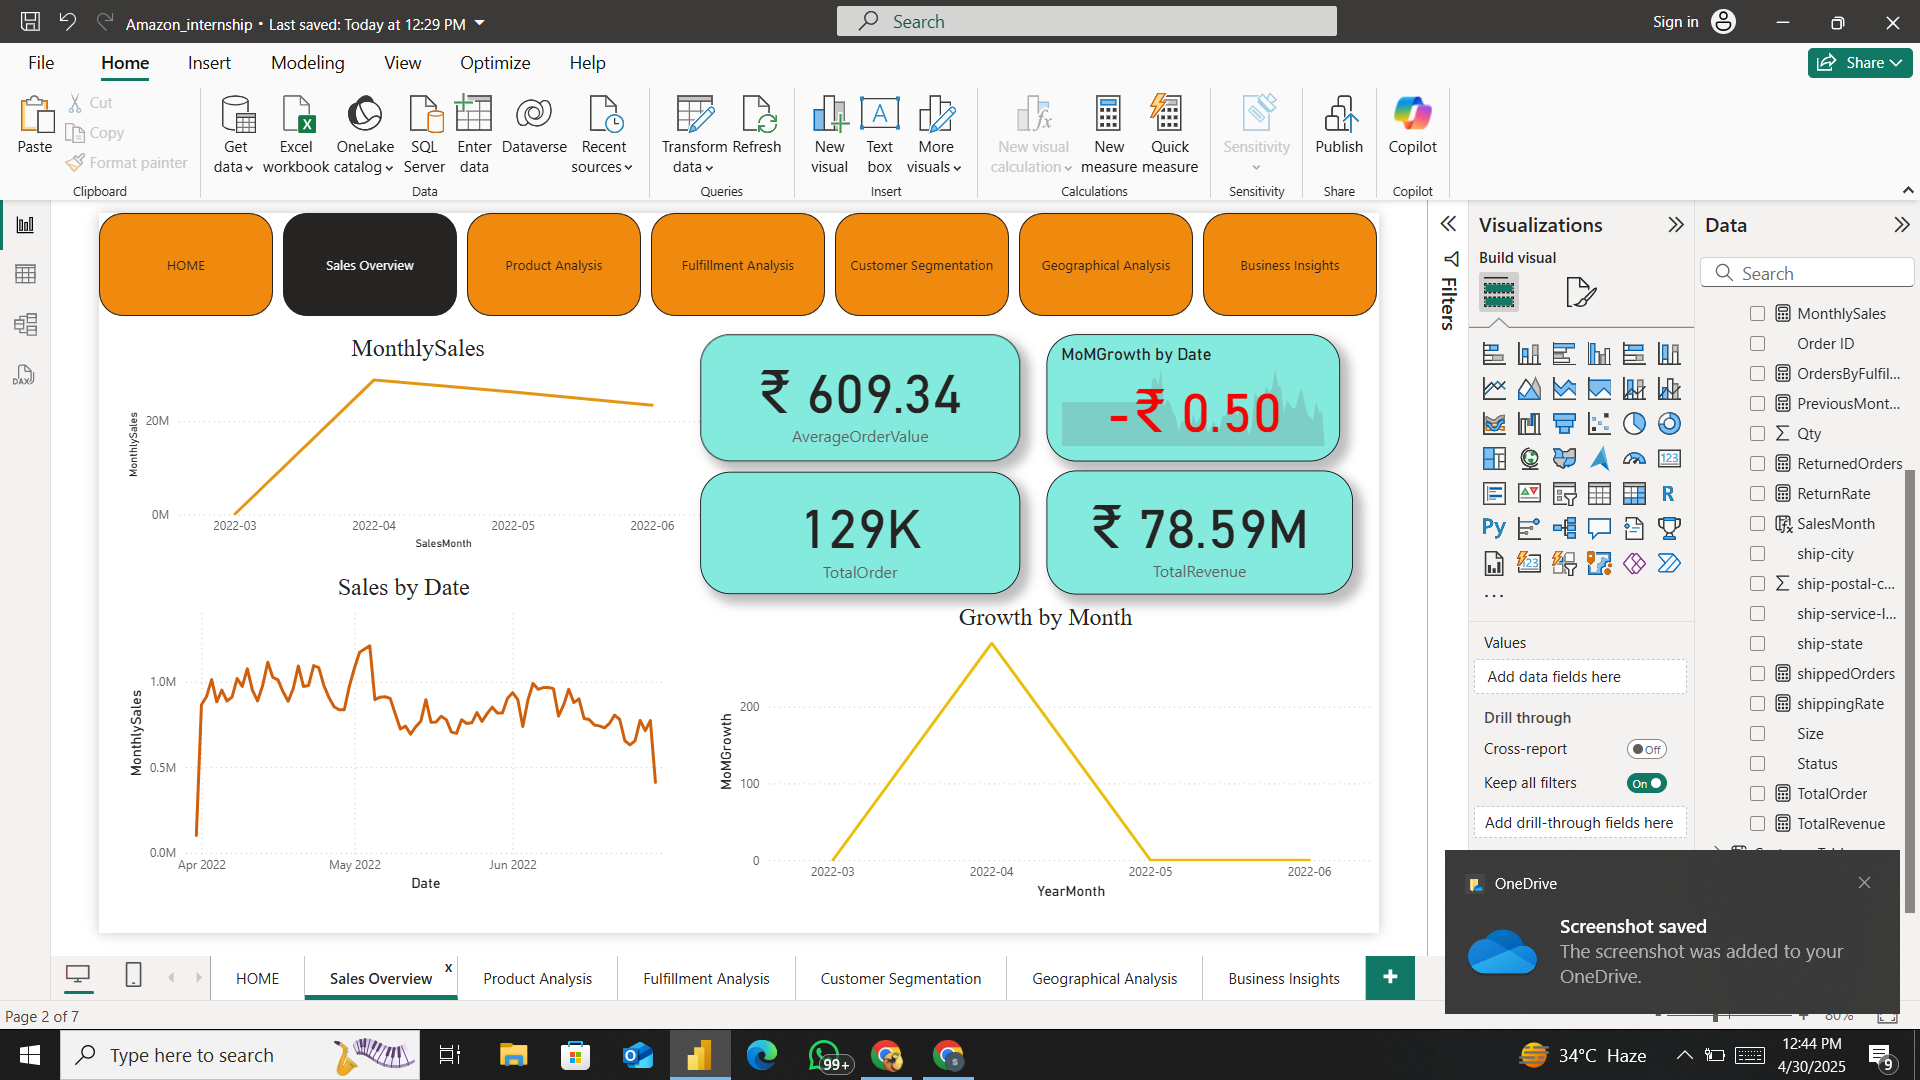

The dashboard page shown, as its layout file describes it:
{"tool":"powerbi","page":{"name":"Sales Overview","canvas":[1280,720],"ordinal":1},"visuals":[{"type":"kpi","fields":{"Indicator":["cleaned_amazon_sales.MoMGrowth"],"TrendLine":["DateTable.Date"]},"box":[947.5,121.2,293.8,127.5],"z":0},{"type":"lineChart","title":"Growth by Month","fields":{"Y":["cleaned_amazon_sales.MoMGrowth"],"Category":["DateTable.YearMonth"]},"box":[614.3,390.5,665.5,301.2],"z":1000},{"type":"actionButton","box":[0,0,100,40],"z":2000},{"type":"lineChart","title":"Sales by Date","fields":{"Y":["cleaned_amazon_sales.MonthlySales"],"Category":["cleaned_amazon_sales.Date"]},"box":[23.8,359.5,561.9,323.8],"z":3000},{"type":"lineChart","title":"MonthlySales ","fields":{"Y":["cleaned_amazon_sales.MonthlySales"],"Category":["cleaned_amazon_sales.SalesMonth"]},"box":[23.8,121.4,590.5,220.2],"z":4000},{"type":"card","fields":{"Values":["cleaned_amazon_sales.AverageOrderValue"]},"box":[601.2,121.2,320,127.5],"z":5000},{"type":"pageNavigator","box":[0,0,1279.8,103.6],"z":6001},{"type":"card","fields":{"Values":["cleaned_amazon_sales.TotalOrder"]},"box":[601.2,258.8,320,122.5],"z":6002},{"type":"card","fields":{"Values":["cleaned_amazon_sales.TotalRevenue"]},"box":[947.5,257.5,306.2,123.8],"z":6003}]}

Visuals, with their boxes on the page's 1280x720 design canvas (x1, y1, x2, y2). These are canvas units, not pixel positions in the 1920x1080 screenshot, which may show the page scaled, cropped or inside an application window:
kpi - cleaned_amazon_sales.MoMGrowth x DateTable.Date: (left=948, top=121, right=1241, bottom=249)
"Growth by Month" lineChart: (left=614, top=390, right=1280, bottom=692)
actionButton: (left=0, top=0, right=100, bottom=40)
"Sales by Date" lineChart: (left=24, top=360, right=586, bottom=683)
"MonthlySales " lineChart: (left=24, top=121, right=614, bottom=342)
card - cleaned_amazon_sales.AverageOrderValue: (left=601, top=121, right=921, bottom=249)
pageNavigator: (left=0, top=0, right=1280, bottom=104)
card - cleaned_amazon_sales.TotalOrder: (left=601, top=259, right=921, bottom=381)
card - cleaned_amazon_sales.TotalRevenue: (left=948, top=258, right=1254, bottom=381)
